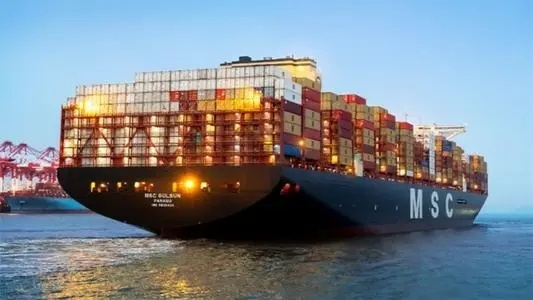Cargoship: (51, 52, 488, 240)
